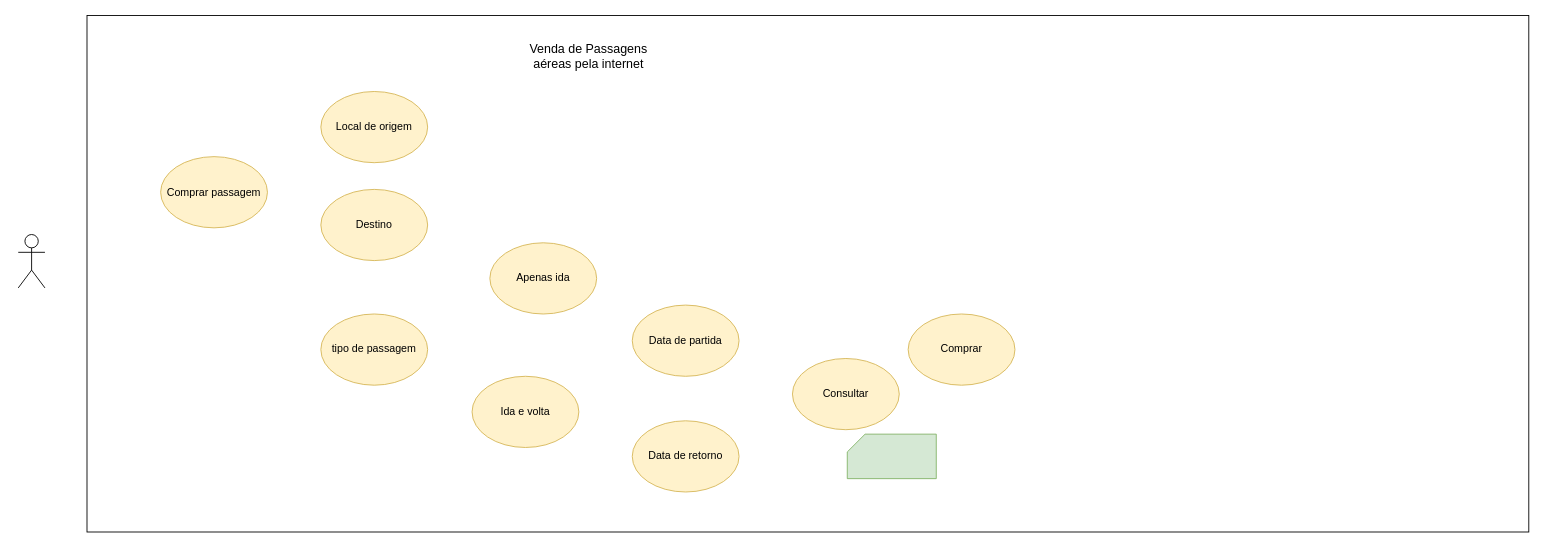
The diagram is 1545 pixels wide and 548 high, and some of its shapes have lost their labels. The centre of each missing label's shape, as x and y in pixels:
"Cliente" goes at (31,261).
"Visualizar os horários e classes disponíveis" goes at (891,456).
